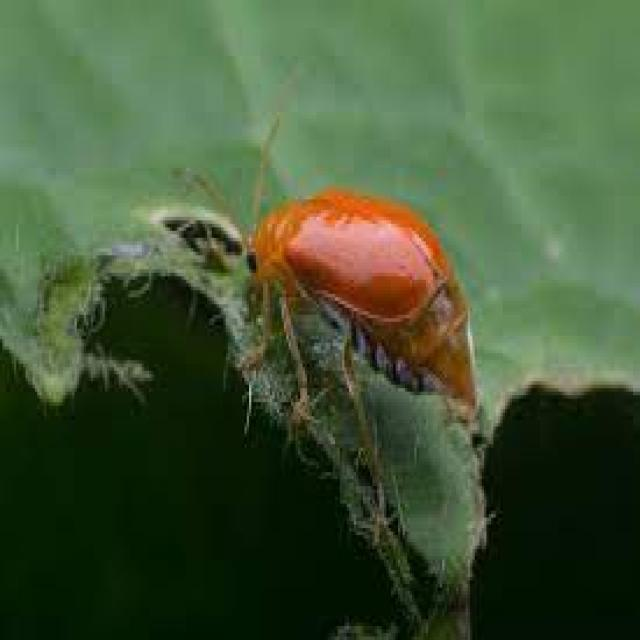Pumpkin Beetle: (161, 107, 486, 570)
